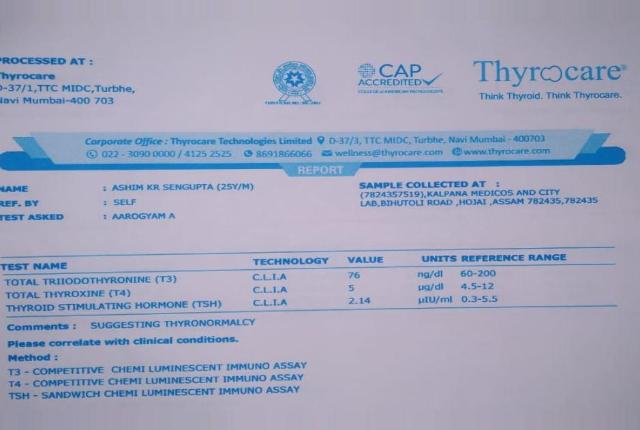Clinical_Conditions: (6, 365, 321, 411)
Name: (111, 182, 258, 192)
Ref_By: (109, 198, 143, 207)
Reference_Range: (460, 268, 500, 305)
Technology: (249, 270, 294, 311)
Test_Asked: (111, 211, 189, 223)
Test_Name: (2, 274, 232, 314)
Unit: (413, 268, 456, 309)
Value: (344, 269, 380, 310)
